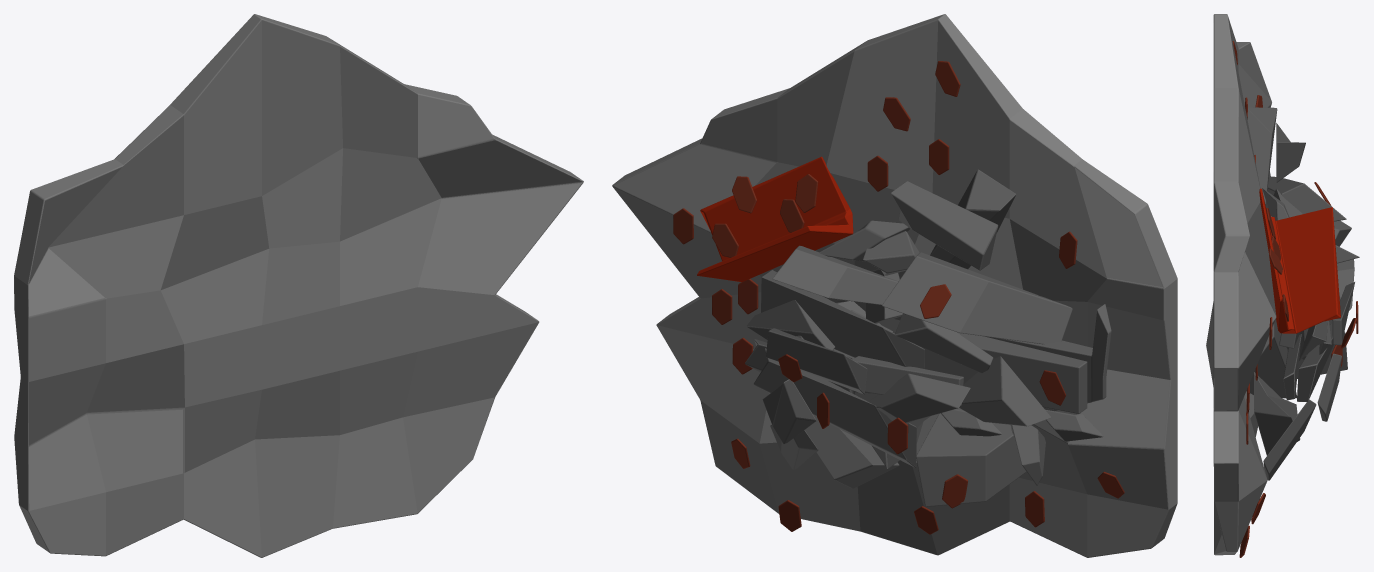
The model's file is moloz.fbx.
3 renders of one model, left to right at view 1: azimuth 30°, elevation 25°; view 2: azimuth 150°, elevation 25°; view 3: azimuth 270°, elevation 25°, orthographic. The views are drawn at different scales.
Parts seen in each view (by area): view 1: Plane.001; view 2: Plane.001; view 3: Plane.001.
Boxes of the visible parts, <box> form: Plane.001: <box>14,14,583,557</box>; Plane.001: <box>612,14,1177,557</box>; Plane.001: <box>1206,14,1359,557</box>.
Bounding box in the file's own units: 2465 × 2302 × 664.
